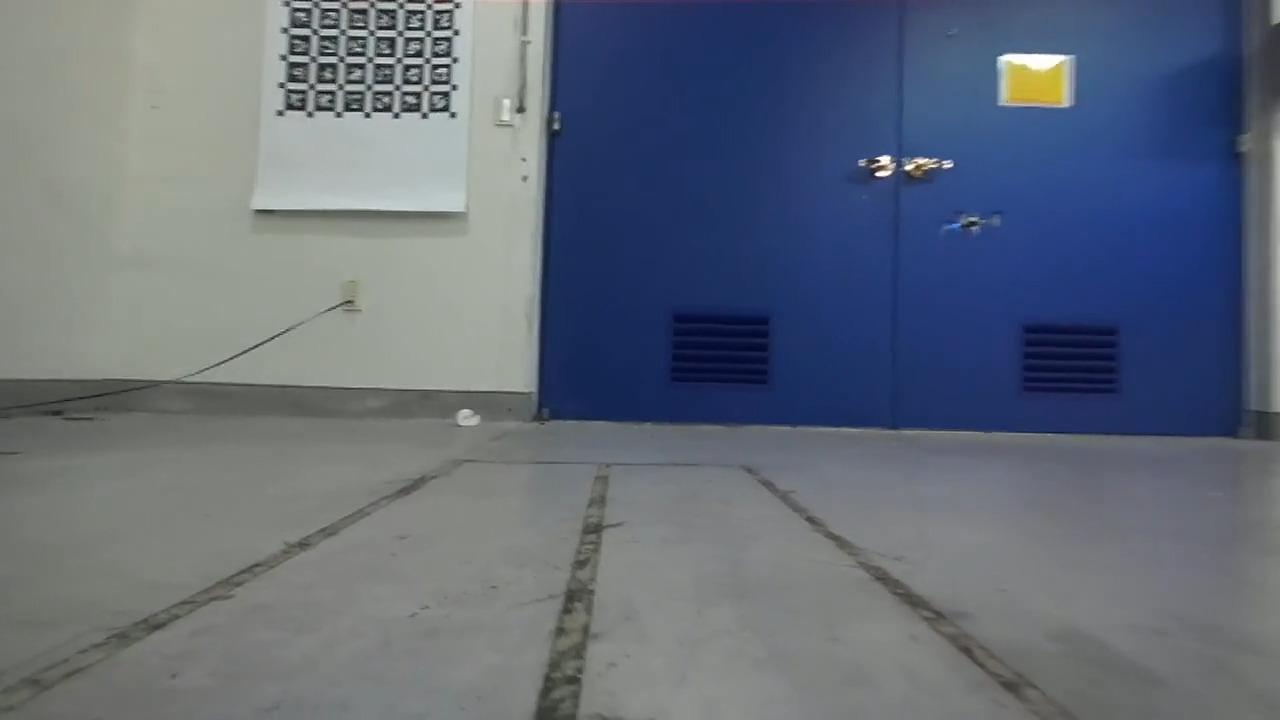crazyflie: (930, 205, 1008, 240)
